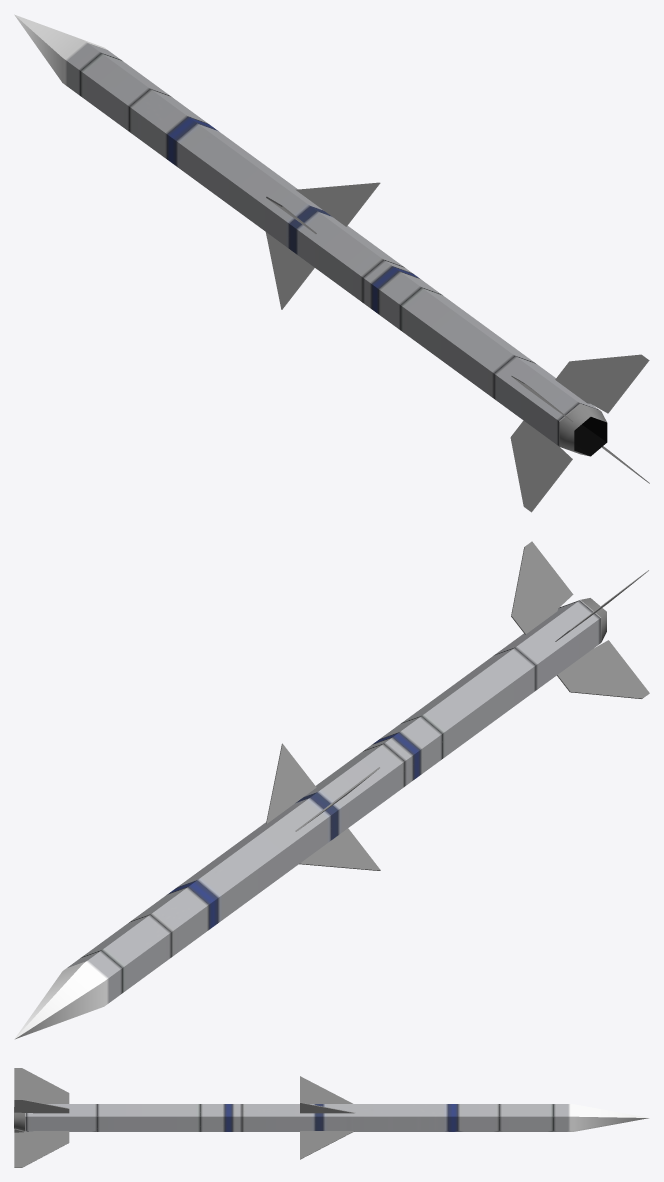
The model's file is AIM-120.fbx.
The picture shows the model from 3 angles, top to bottom: view 1: azimuth 30°, elevation 25°; view 2: azimuth 150°, elevation 25°; view 3: azimuth 270°, elevation 25°; orthographic projection. The views are drawn at different scales.
Visible parts, largest first — view 1: obj0, obj2, obj1; view 2: obj0, obj2; view 3: obj0, obj2.
Part boxes in pixels (left/top/right/bottom): obj0: left=14, top=14, right=600, bottom=446; obj2: left=265, top=182, right=649, bottom=512; obj1: left=574, top=417, right=607, bottom=456; obj0: left=14, top=600, right=601, bottom=1039; obj2: left=266, top=541, right=649, bottom=870; obj0: left=25, top=1104, right=648, bottom=1131; obj2: left=14, top=1068, right=355, bottom=1167.
Bounding box in the file's own units: 27.87 × 27.76 × 234.
3 materials, 1 textured.
